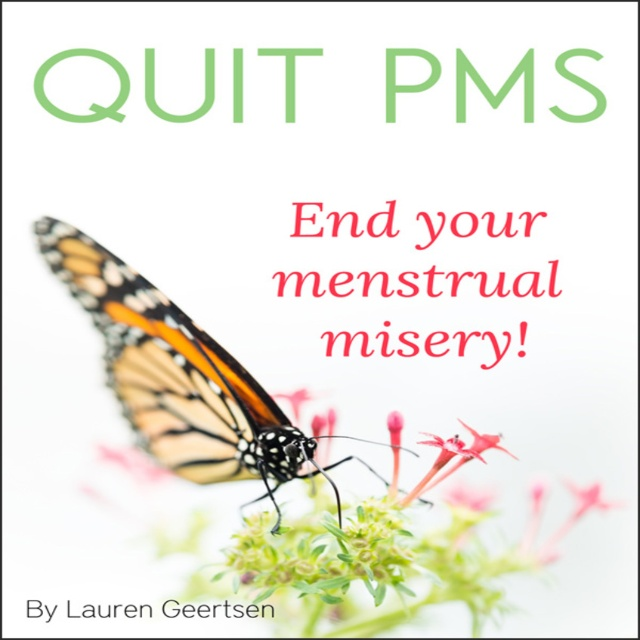Butterfly: (30, 220, 393, 546)
